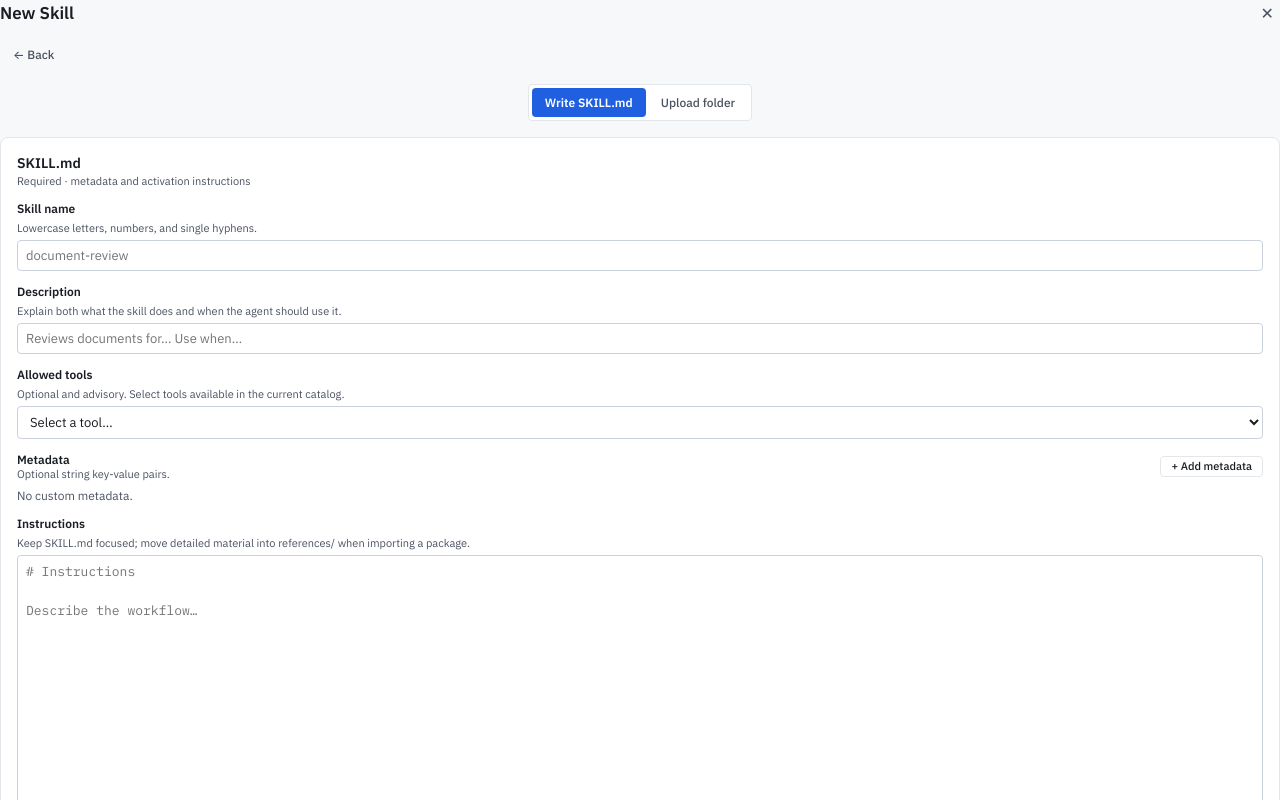
Test: SkillEditor folder import › swaps the form for the folder picker when the tab is chosen
This screenshot has width=1280, height=800.
Click the tab "Upload folder".
click(698, 102)  # box [648, 88, 748, 117]
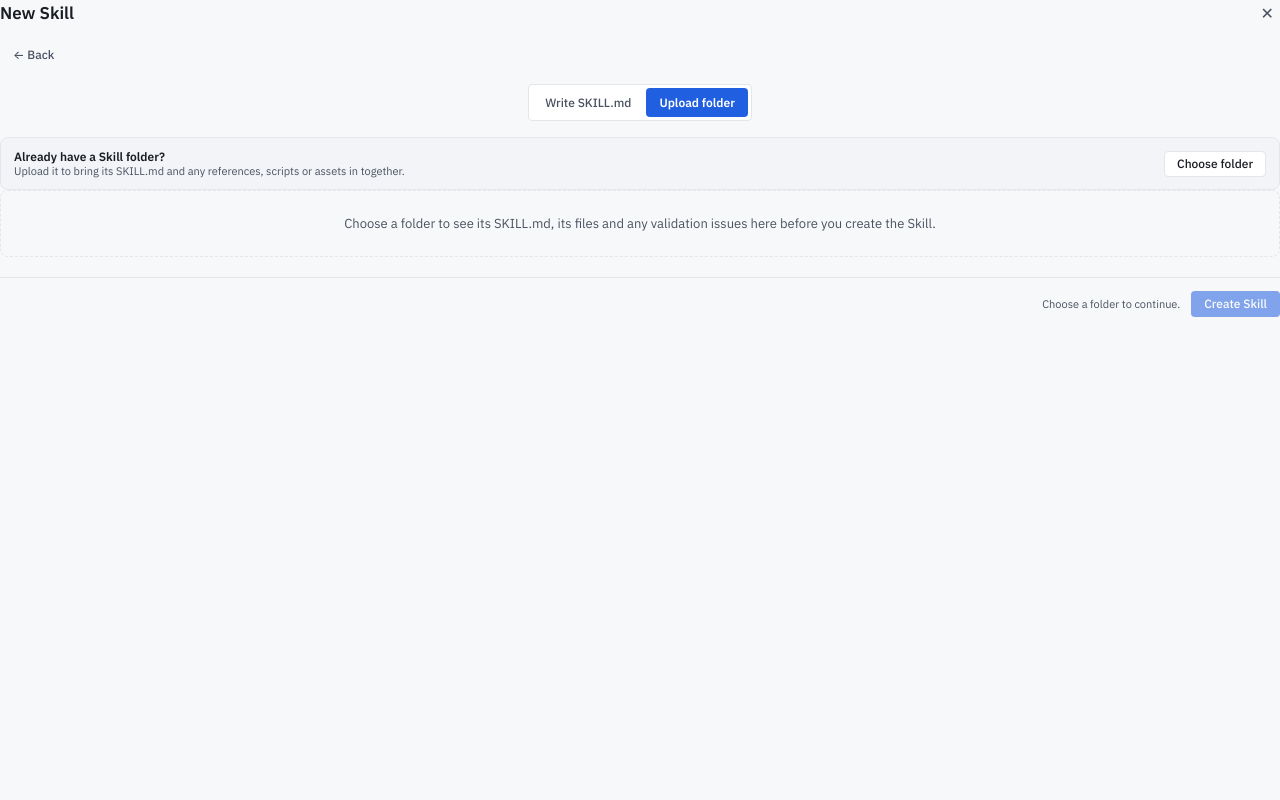
Result: the button "Choose folder" is shown at [1164, 150, 1266, 176]
Result: the text labelled "Skill name" is gone
